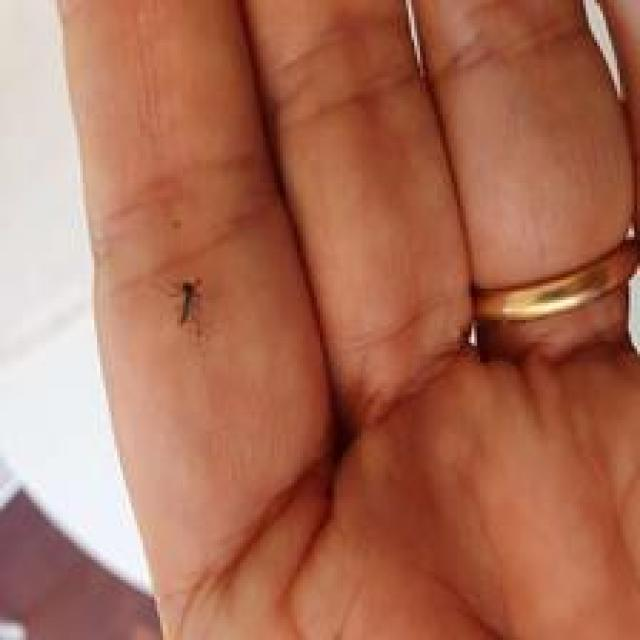Aedes albopictus: (170, 276, 204, 327)
